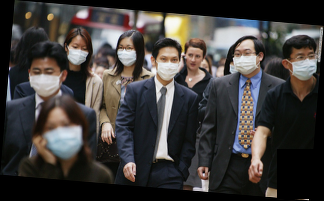with_mask: (41, 117, 83, 161), (28, 66, 63, 98), (291, 49, 318, 81), (231, 46, 260, 75), (154, 53, 181, 80), (66, 42, 90, 66), (116, 42, 137, 67)
without_mask: (185, 51, 203, 70)
